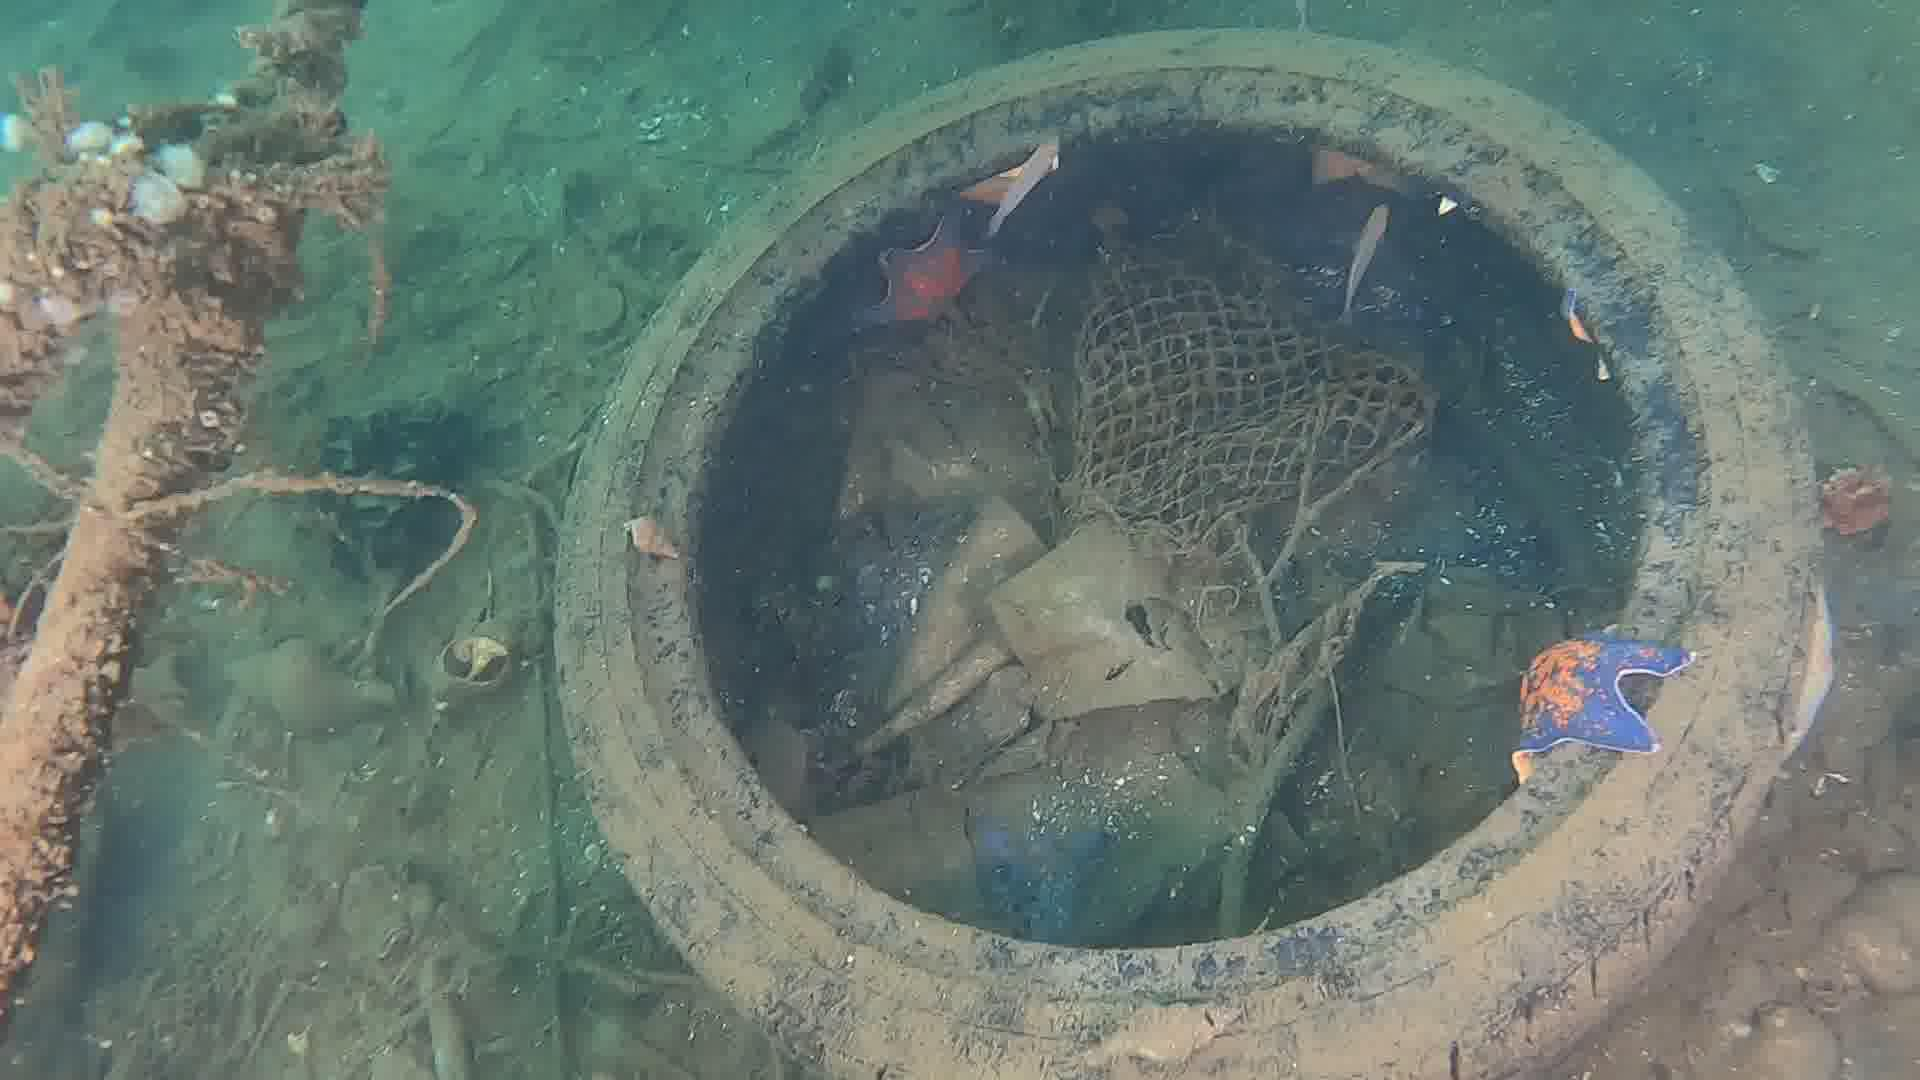fish net: (1054, 239, 1437, 562)
tire: (543, 21, 1826, 1080)
